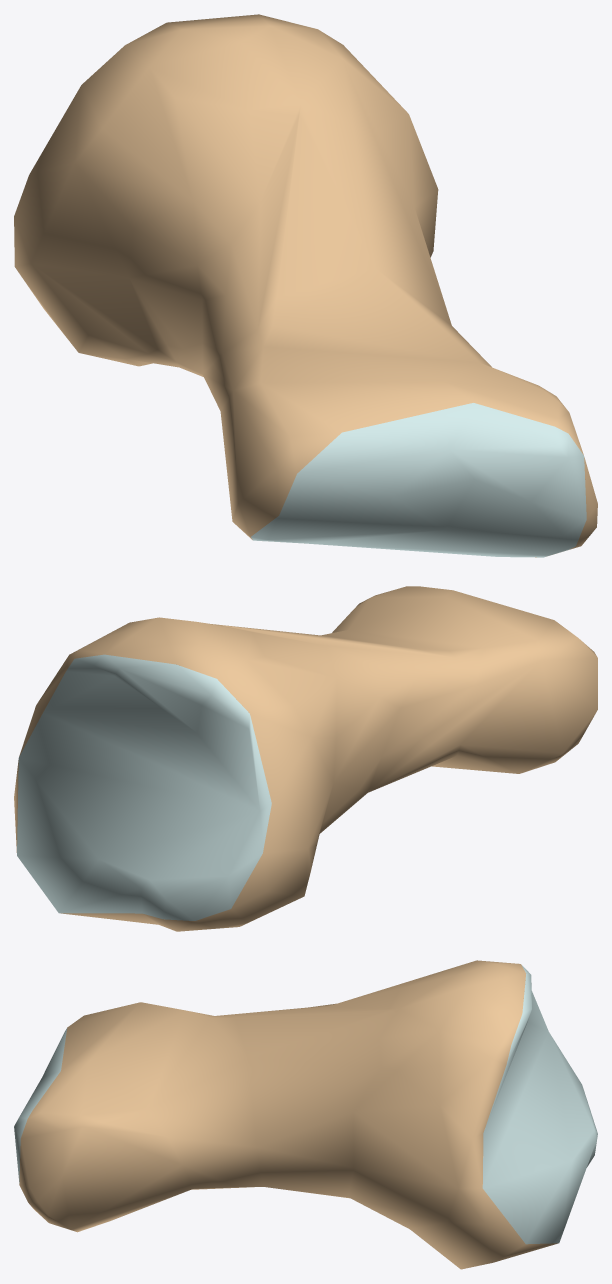
File: Middle_phalanx_of_3rd_finger_of_foot.r_Generated_Mesh_From_X3D..glb
3 renders of one model, top to bottom at view 1: azimuth 30°, elevation 25°; view 2: azimuth 150°, elevation 25°; view 3: azimuth 270°, elevation 25°, orthographic. The views are drawn at different scales.
Visible parts, largest first — view 1: Middle_phalanx_of_3rd_finger_of_foot.r_Generated_Mesh_From_X; view 2: Middle_phalanx_of_3rd_finger_of_foot.r_Generated_Mesh_From_X; view 3: Middle_phalanx_of_3rd_finger_of_foot.r_Generated_Mesh_From_X.
Boxes of the visible parts, x1=… form: Middle_phalanx_of_3rd_finger_of_foot.r_Generated_Mesh_From_X: x1=14, y1=14, x2=597, y2=557; Middle_phalanx_of_3rd_finger_of_foot.r_Generated_Mesh_From_X: x1=14, y1=586, x2=597, y2=931; Middle_phalanx_of_3rd_finger_of_foot.r_Generated_Mesh_From_X: x1=14, y1=960, x2=597, y2=1269.
Bounding box in the file's own units: 0.0111 × 0.0083 × 0.0174.
